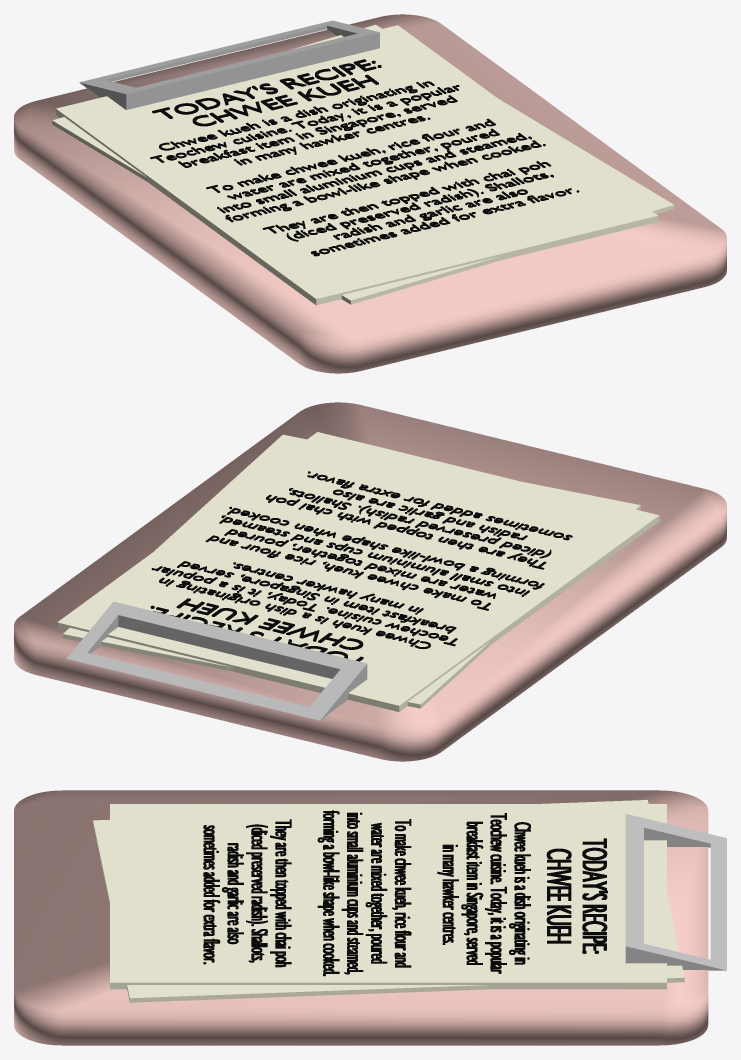
File: ckclipboard1.fbx
3 views of the same model, one above another, from view 1: azimuth 30°, elevation 25°; view 2: azimuth 150°, elevation 25°; view 3: azimuth 270°, elevation 25° (orthographic). The views are drawn at different scales.
Parts seen in each view (by area): view 1: Cube.001, obj_0.002, Text.001, Cube, Cube.002, Text.002; view 2: Cube.001, obj_0.002, Text.001, Cube, Cube.002, Text.002; view 3: Cube.001, obj_0.002, Text.001, Cube, Cube.002, Text.002.
Part boxes in pixels (x1=…): Cube.001: x1=56, y1=25, x2=658, y2=305; obj_0.002: x1=14, y1=14, x2=726, y2=373; Text.001: x1=150, y1=81, x2=579, y2=256; Cube: x1=79, y1=20, x2=379, y2=109; Cube.002: x1=52, y1=24, x2=674, y2=304; Text.002: x1=152, y1=59, x2=381, y2=126; Cube.001: x1=57, y1=432, x2=659, y2=711; obj_0.002: x1=14, y1=402, x2=726, y2=761; Text.001: x1=151, y1=471, x2=572, y2=648; Cube: x1=66, y1=601, x2=367, y2=720; Cube.002: x1=63, y1=434, x2=640, y2=708; Text.002: x1=150, y1=598, x2=363, y2=661; Cube.001: x1=110, y1=804, x2=666, y2=989; obj_0.002: x1=14, y1=790, x2=708, y2=1045; Text.001: x1=203, y1=810, x2=530, y2=976; Cube: x1=625, y1=814, x2=726, y2=970; Cube.002: x1=93, y1=800, x2=684, y2=1002; Text.002: x1=546, y1=838, x2=607, y2=953.
Bounding box in the file's own units: 263 × 32.69 × 360.
